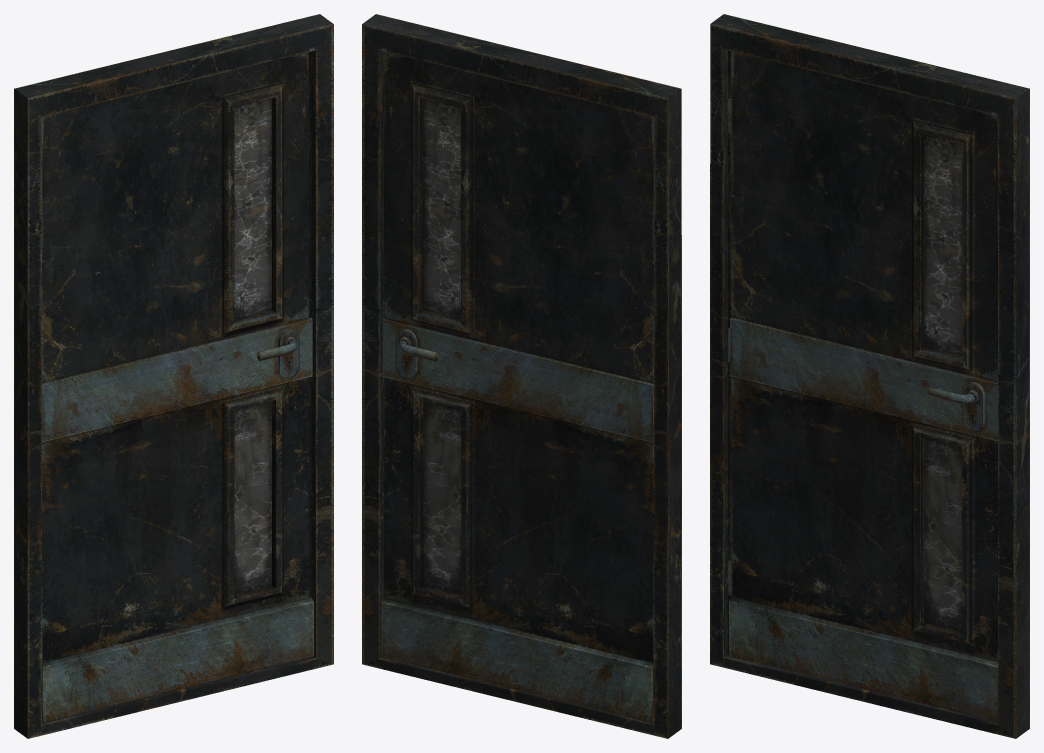
File: swingdoor_corridor_damaged.dae
The picture shows the model from 3 angles, left to right: view 1: azimuth 30°, elevation 25°; view 2: azimuth 150°, elevation 25°; view 3: azimuth 330°, elevation 25°; orthographic projection.
Visible parts, largest first — view 1: polySurface107, polySurface93; view 2: polySurface107, polySurface93; view 3: polySurface107, polySurface93.
Boxes of the visible parts, box(x1,y1,x2,y2) form: polySurface107: box(42, 52, 313, 722); polySurface93: box(14, 14, 333, 738); polySurface107: box(381, 51, 653, 722); polySurface93: box(362, 14, 681, 738); polySurface107: box(728, 51, 997, 721); polySurface93: box(710, 14, 1029, 738).
Bounding box in the file's own units: 1.5 × 3 × 0.2452.
